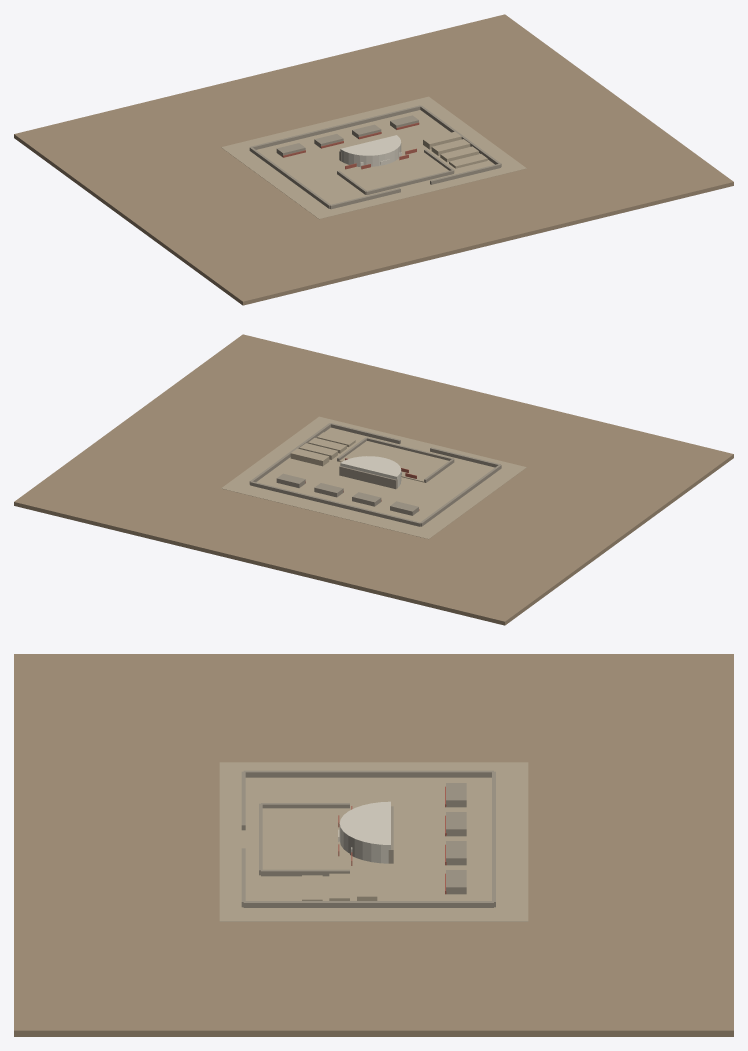
The model's file is wari_site_lod0.glb.
The picture shows the model from 3 angles, top to bottom: view 1: azimuth 30°, elevation 25°; view 2: azimuth 150°, elevation 25°; view 3: azimuth 270°, elevation 25°; orthographic projection. The views are drawn at different scales.
Parts seen in each view (by area): view 1: Wari_LOD0_Terrain, Wari_LOD0_Apron, Wari_Plaza, Wari_D_Temple, Wari_Perimeter_N, Wari_Perimeter_W; view 2: Wari_LOD0_Terrain, Wari_LOD0_Apron, Wari_Plaza, Wari_D_Temple, Wari_Perimeter_N, Wari_D_Facade, Wari_Perimeter_W; view 3: Wari_LOD0_Terrain, Wari_LOD0_Apron, Wari_Plaza, Wari_D_Temple, Wari_Perimeter_W, Wari_Perimeter_E, Wari_Plaza_E.
Boxes of the visible parts, bbox=[...] form: Wari_LOD0_Terrain: bbox=[14, 14, 733, 305]; Wari_LOD0_Apron: bbox=[221, 96, 526, 219]; Wari_Plaza: bbox=[342, 152, 448, 190]; Wari_D_Temple: bbox=[340, 135, 401, 167]; Wari_Perimeter_N: bbox=[250, 105, 420, 149]; Wari_Perimeter_W: bbox=[249, 147, 330, 208]; Wari_LOD0_Terrain: bbox=[14, 334, 733, 625]; Wari_LOD0_Apron: bbox=[221, 416, 526, 539]; Wari_Plaza: bbox=[338, 441, 448, 482]; Wari_D_Temple: bbox=[340, 456, 401, 487]; Wari_Perimeter_N: bbox=[250, 481, 420, 526]; Wari_D_Facade: bbox=[339, 466, 397, 489]; Wari_Perimeter_W: bbox=[420, 464, 501, 526]; Wari_LOD0_Terrain: bbox=[14, 654, 733, 1036]; Wari_LOD0_Apron: bbox=[219, 762, 528, 921]; Wari_Plaza: bbox=[262, 808, 349, 869]; Wari_D_Temple: bbox=[339, 801, 390, 863]; Wari_Perimeter_W: bbox=[243, 770, 493, 777]; Wari_Perimeter_E: bbox=[243, 901, 493, 907]; Wari_Plaza_E: bbox=[261, 869, 349, 876].
Bounding box in the file's own units: 520 × 16.2 × 420.
